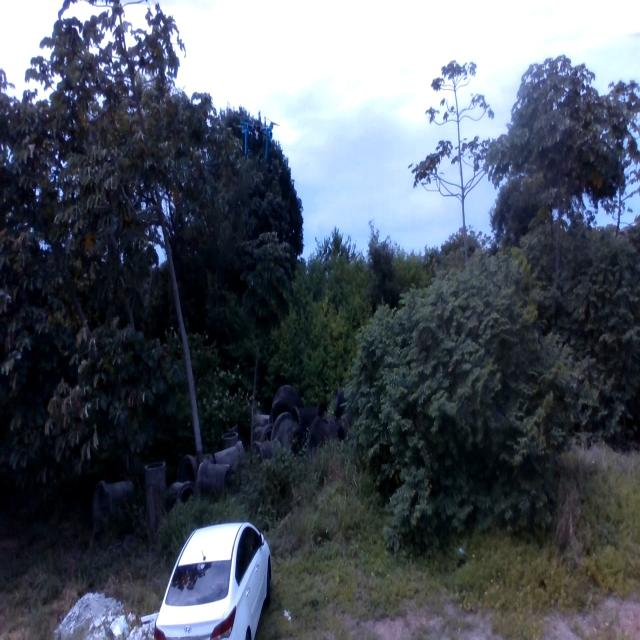-uav-: (233, 99, 285, 178)
